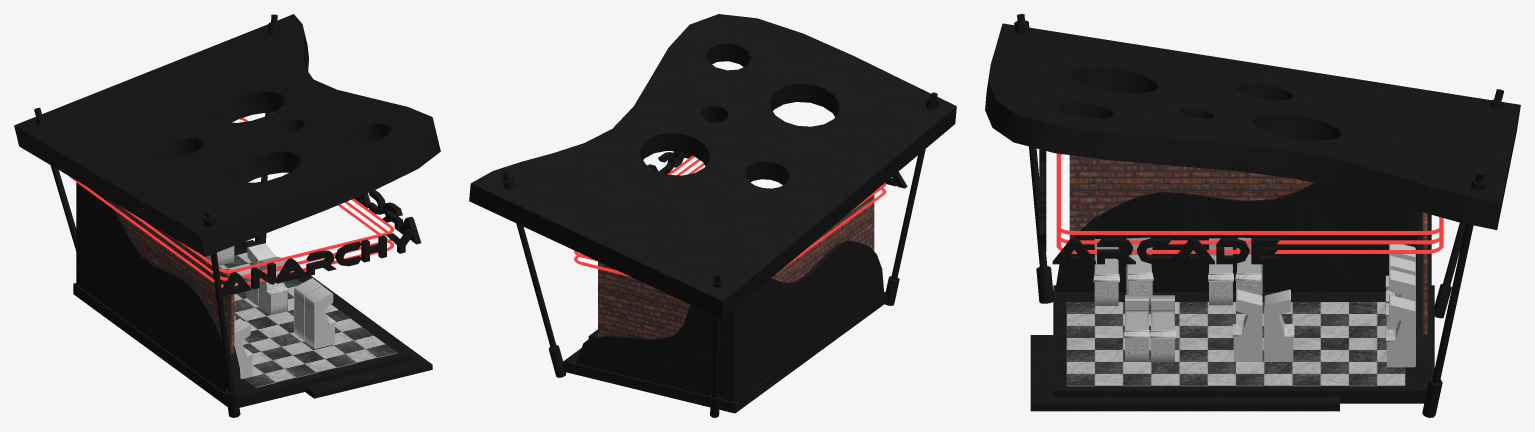
The model's file is aabooth.gltf.
The picture shows the model from 3 angles, left to right: view 1: azimuth 30°, elevation 25°; view 2: azimuth 150°, elevation 25°; view 3: azimuth 270°, elevation 25°; orthographic projection. The views are drawn at different scales.
Parts seen in each view (by area): view 1: Rectangle001, Rectangle003, Box021, Box012, Box003, Text001, Box013, hyperfy, Text002, mona, Cylinder014, Loft001 (+7 smaller); view 2: Rectangle001, Rectangle003, Rectangle004, Box010, Box012, Box003, Box011, Cylinder014, Cylinder013, Loft003, Cylinder015, Text002; view 3: Rectangle001, Rectangle003, Box021, Box012, Box003, Box013, Text002, Loft001, Rectangle004, webaverse, mona, oncyber (+16 smaller).
Boxes of the visible parts, box(x1,y1,x2,y2) form: Rectangle001: box(14, 14, 440, 256); Rectangle003: box(82, 186, 241, 396); Box021: box(219, 252, 397, 387); Box012: box(73, 240, 410, 407); Box003: box(116, 204, 234, 353); Text001: box(221, 228, 416, 296); Box013: box(304, 271, 432, 398); hyperfy: box(304, 286, 336, 348); Text002: box(354, 190, 421, 244); mona: box(259, 256, 289, 315); Cylinder014: box(205, 210, 234, 392); Loft001: box(178, 117, 394, 273); Rectangle001: box(469, 14, 956, 319); Rectangle003: box(740, 240, 884, 397); Rectangle004: box(576, 305, 725, 399); Box010: box(598, 261, 690, 338); Box012: box(563, 292, 886, 413); Box003: box(771, 195, 874, 282); Box011: box(725, 304, 740, 401); Cylinder014: box(891, 92, 937, 280); Cylinder013: box(502, 171, 556, 349); Loft003: box(574, 163, 886, 276); Cylinder015: box(712, 272, 720, 397); Text002: box(648, 151, 692, 174); Rectangle001: box(985, 23, 1520, 229); Rectangle003: box(1056, 183, 1417, 291); Box021: box(1066, 302, 1405, 386); Box012: box(1053, 285, 1434, 403); Box003: box(1069, 155, 1313, 239); Box013: box(1030, 335, 1339, 411); Text002: box(1052, 238, 1279, 264); Loft001: box(1056, 153, 1443, 234); Rectangle004: box(1417, 211, 1431, 383); webaverse: box(1385, 295, 1415, 367); mona: box(1232, 289, 1262, 361); oncyber: box(1264, 289, 1294, 361).
Size of the model in its own units: 12.07 by 9.56 by 15.29.
